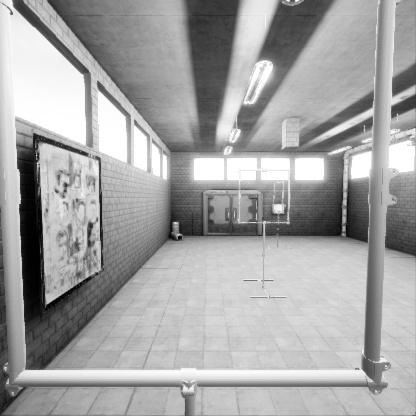gate: (28, 72, 388, 416), (239, 195, 293, 248), (273, 204, 283, 236)
